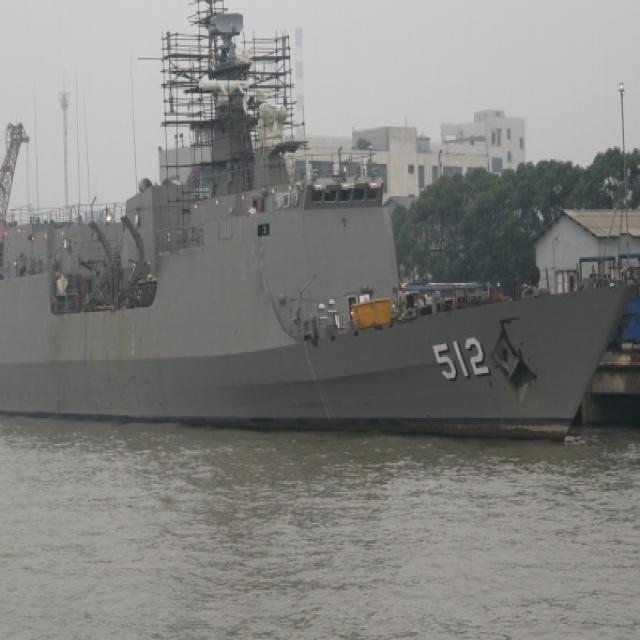Fragata: (1, 1, 640, 446)
